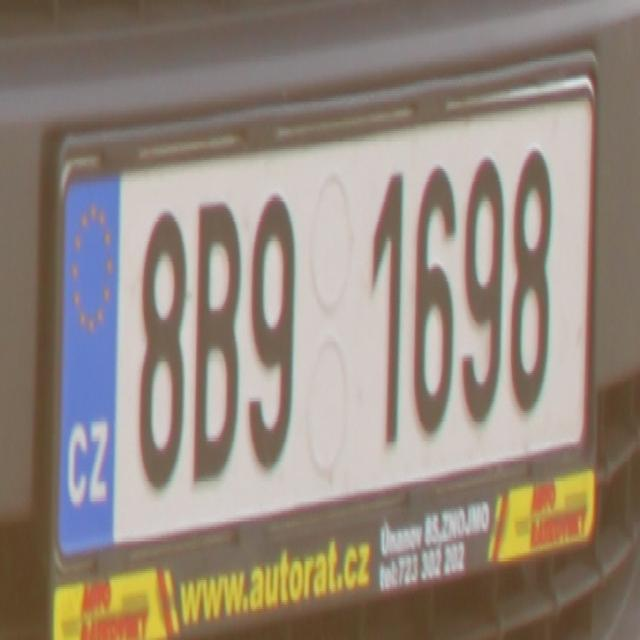1: (371, 164, 405, 460)
6: (411, 153, 456, 444)
8: (135, 200, 186, 496), (510, 144, 556, 416)
9: (248, 184, 298, 480), (459, 149, 508, 429)
B: (190, 191, 242, 489)
